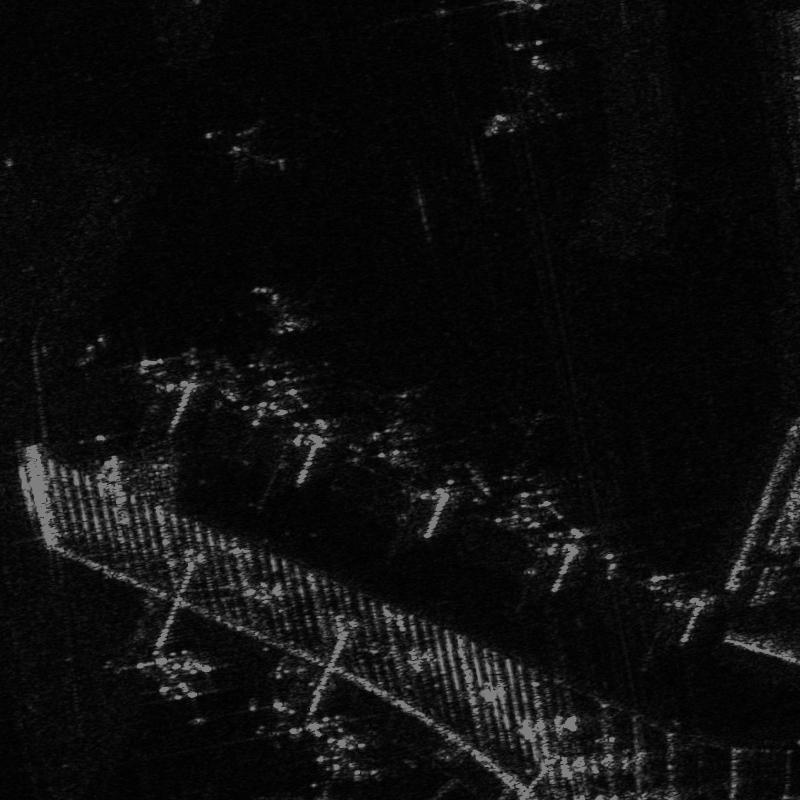Boeing787: (489, 52, 570, 136), (235, 357, 312, 435)
other: (203, 117, 288, 188)
